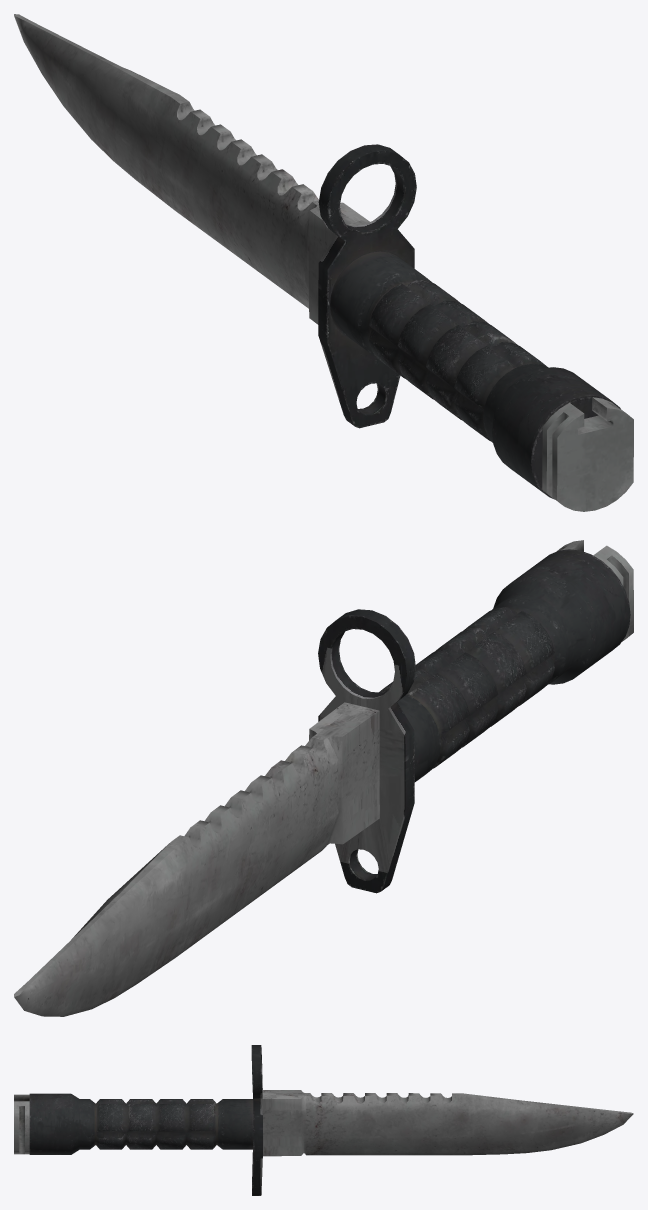
Rendered from b_sungu.glb.
The picture shows the model from 3 angles, top to bottom: view 1: azimuth 30°, elevation 25°; view 2: azimuth 150°, elevation 25°; view 3: azimuth 270°, elevation 25°; orthographic projection. The views are drawn at different scales.
Visible parts, largest first — view 1: govde; view 2: govde; view 3: govde.
Part boxes in pixels (box(x1,y1,x2,y2)): govde: box(14, 14, 633, 511); govde: box(14, 540, 633, 1016); govde: box(14, 1045, 633, 1195).
Bounding box in the file's own units: 0.0297 × 0.0778 × 0.3.
1 material, 1 textured.
